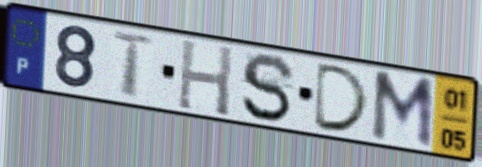8: (53, 23, 98, 91)
D: (310, 61, 373, 135)
H: (174, 36, 236, 120)
M: (369, 68, 437, 152)
S: (239, 51, 298, 125)
T: (109, 29, 157, 101)
